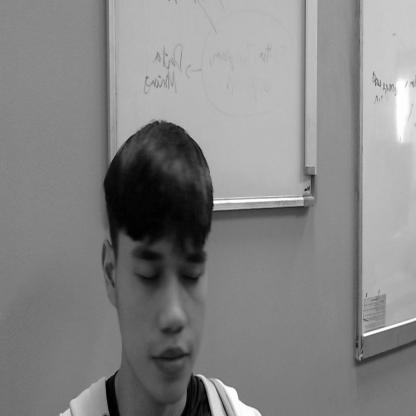Closed-Eyes: (129, 230, 209, 296)
